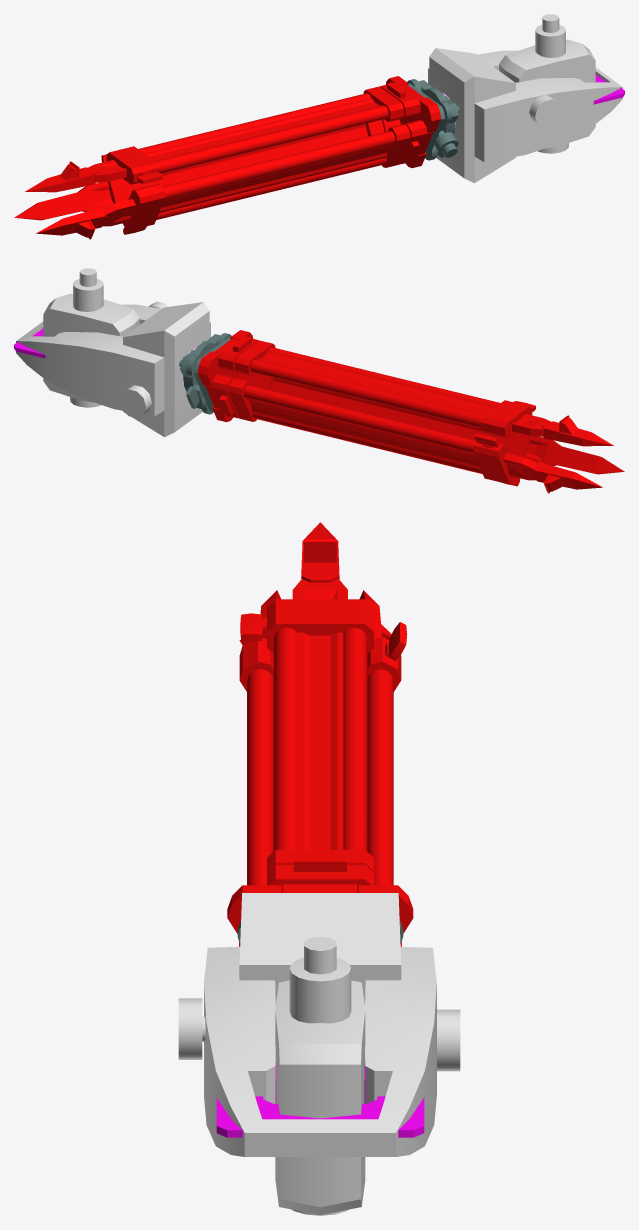
File: Total_Station.fbx
The picture shows the model from 3 angles, top to bottom: view 1: azimuth 30°, elevation 25°; view 2: azimuth 150°, elevation 25°; view 3: azimuth 270°, elevation 25°; orthographic projection. The views are drawn at different scales.
Visible parts, largest first — view 1: _TotalStation, _Extend (×3), _TripodLegs_002, _TripodLegs_001, _TriBrack, _Tripod, _TripodLegs_003; view 2: _TotalStation, _Extend (×3), _TripodLegs_003, _TripodLegs_001, _TriBrack, _Tripod, _TripodLegs_002; view 3: _TotalStation, _TripodLegs_001, _Extend, _TripodLegs_003, _TripodLegs_002, _Prism, _Tripod.
Boxes of the visible parts, x1,y1,x2,y2 form: _TotalStation: [428, 14, 622, 183]; _Extend (×3): [14, 86, 410, 239]; _TripodLegs_002: [122, 120, 433, 234]; _TripodLegs_001: [106, 82, 424, 184]; _TriBrack: [407, 79, 459, 160]; _Tripod: [385, 76, 440, 168]; _TripodLegs_003: [101, 119, 400, 203]; _TotalStation: [16, 268, 210, 437]; _Extend (×3): [228, 340, 624, 493]; _TripodLegs_003: [205, 374, 516, 484]; _TripodLegs_001: [214, 336, 535, 438]; _TriBrack: [179, 333, 231, 414]; _Tripod: [198, 330, 253, 422]; _TripodLegs_002: [238, 373, 530, 486]; _TotalStation: [178, 893, 460, 1215]; _TripodLegs_001: [240, 599, 373, 892]; _Extend: [267, 522, 373, 871]; _TripodLegs_003: [367, 622, 407, 946]; _TripodLegs_002: [239, 638, 273, 946]; _Prism: [216, 1062, 424, 1137]; _Tripod: [227, 885, 413, 933].
Size of the model in its own units: 38 by 8.03 by 8.
